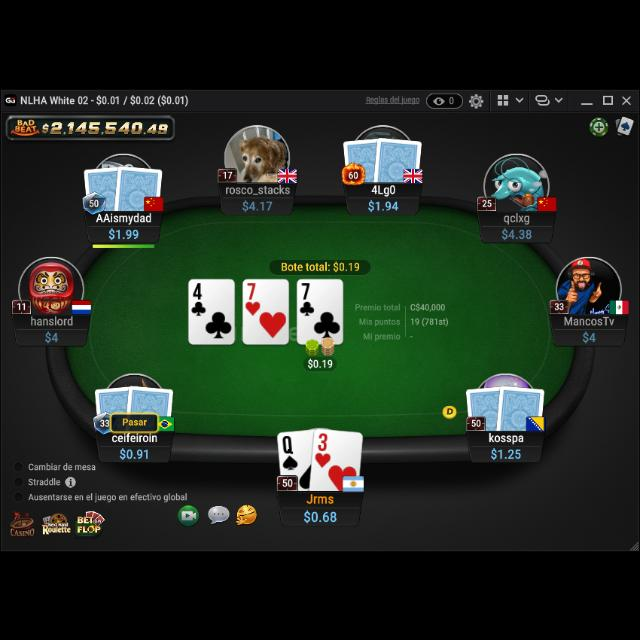3h: (313, 429, 331, 467)
4c: (191, 282, 207, 316)
7c: (300, 280, 316, 316)
7h: (244, 280, 262, 316)
Qs: (282, 434, 300, 472)
bet_text: (306, 354, 336, 368)
card_back: (496, 382, 546, 432), (373, 134, 423, 184), (113, 162, 163, 212), (124, 382, 174, 430), (82, 162, 126, 212), (342, 136, 384, 184), (464, 384, 506, 431), (94, 384, 134, 422)
dealer: (441, 402, 459, 418)
pot_text: (280, 259, 360, 271)
stack_text: (304, 505, 338, 523), (240, 196, 276, 212), (106, 224, 140, 240), (501, 224, 534, 238), (118, 445, 150, 459), (490, 445, 522, 459), (366, 198, 399, 210), (580, 327, 598, 341), (44, 328, 60, 342)
